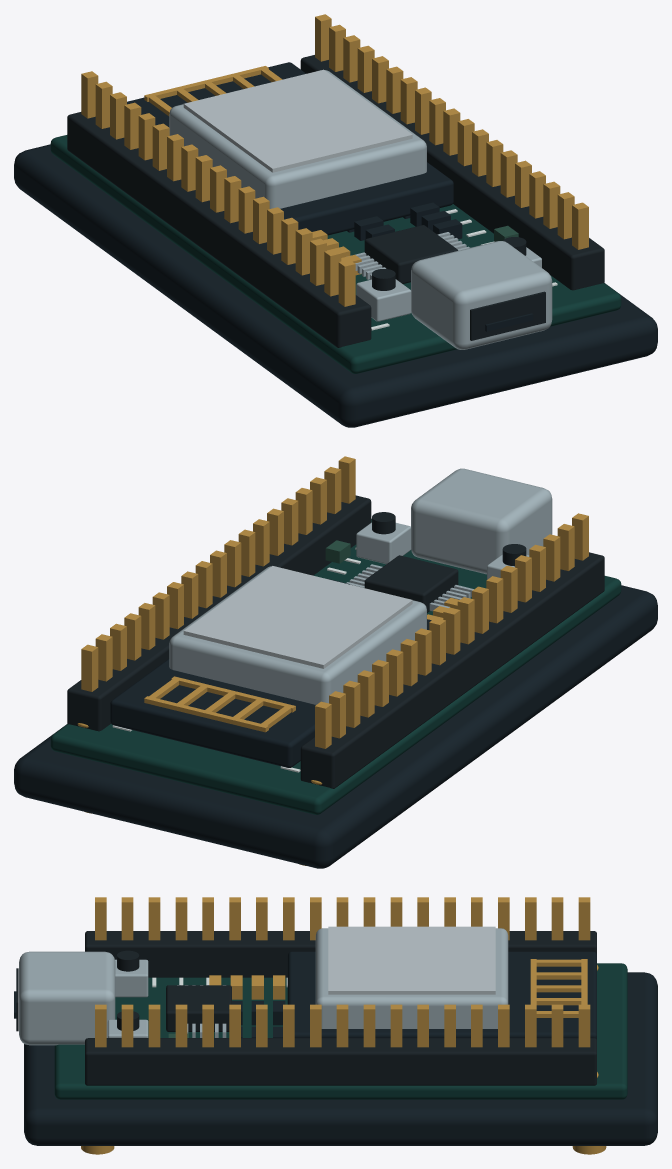
The model's file is esp32.glb.
3 renders of one model, top to bottom at view 1: azimuth 30°, elevation 25°; view 2: azimuth 150°, elevation 25°; view 3: azimuth 270°, elevation 25°, orthographic. The views are drawn at different scales.
Visible parts, largest first — view 1: black-anodised, matte-polymer, plated-brass, stainless-steel, satin-aluminium, pcb-solder-mask; view 2: black-anodised, plated-brass, matte-polymer, stainless-steel, pcb-solder-mask, satin-aluminium; view 3: black-anodised, matte-polymer, plated-brass, stainless-steel, pcb-solder-mask, satin-aluminium.
Part boxes in pixels (x1,y1,x2,y2): black-anodised: [14, 62, 657, 427]; matte-polymer: [67, 55, 604, 347]; plated-brass: [81, 14, 588, 306]; stainless-steel: [169, 70, 552, 349]; satin-aluminium: [183, 69, 412, 172]; pcb-solder-mask: [50, 135, 621, 373]; black-anodised: [14, 578, 657, 868]; plated-brass: [77, 456, 588, 865]; matte-polymer: [67, 495, 604, 788]; stainless-steel: [169, 468, 552, 704]; pcb-solder-mask: [50, 518, 621, 814]; satin-aluminium: [183, 566, 412, 668]; black-anodised: [14, 951, 657, 1145]; matte-polymer: [16, 931, 596, 1085]; plated-brass: [81, 897, 606, 1154]; stainless-steel: [19, 928, 508, 1045]; pcb-solder-mask: [54, 963, 627, 1099]; satin-aluminium: [328, 926, 495, 994].
Size of the model in its own units: 0.68 by 0.315 by 1.27.
